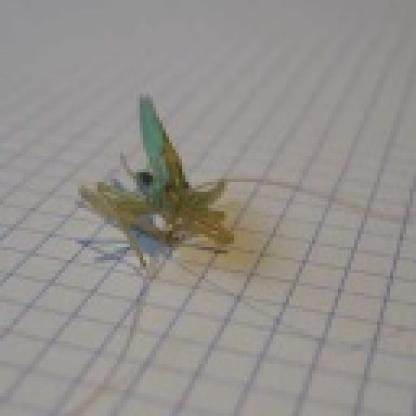grasshopper: (75, 91, 256, 271)
